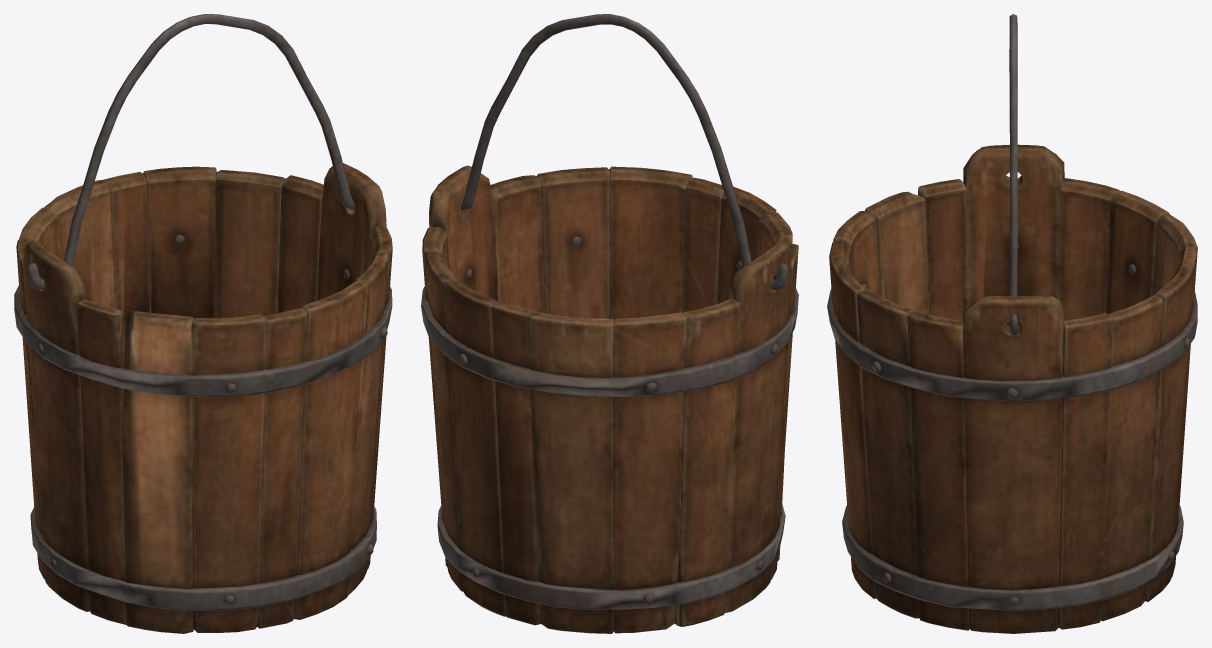
Rendered from wooden_bucket_01.glb.
3 renders of one model, left to right at view 1: azimuth 30°, elevation 25°; view 2: azimuth 150°, elevation 25°; view 3: azimuth 270°, elevation 25°, orthographic.
Parts seen in each view (by area): view 1: wooden_bucket_01, wooden_bucket_01_handle; view 2: wooden_bucket_01, wooden_bucket_01_handle; view 3: wooden_bucket_01, wooden_bucket_01_handle.
Boxes of the visible parts, box(x1,y1,x2,y2) form: wooden_bucket_01: box(14, 163, 392, 633); wooden_bucket_01_handle: box(28, 14, 376, 289); wooden_bucket_01: box(421, 165, 798, 633); wooden_bucket_01_handle: box(437, 14, 787, 290); wooden_bucket_01: box(827, 144, 1197, 633); wooden_bucket_01_handle: box(1009, 14, 1017, 335).
Bounding box in the file's own units: 0.367 × 0.5499 × 0.3419.
Materials: 1 (1 with a texture image).
